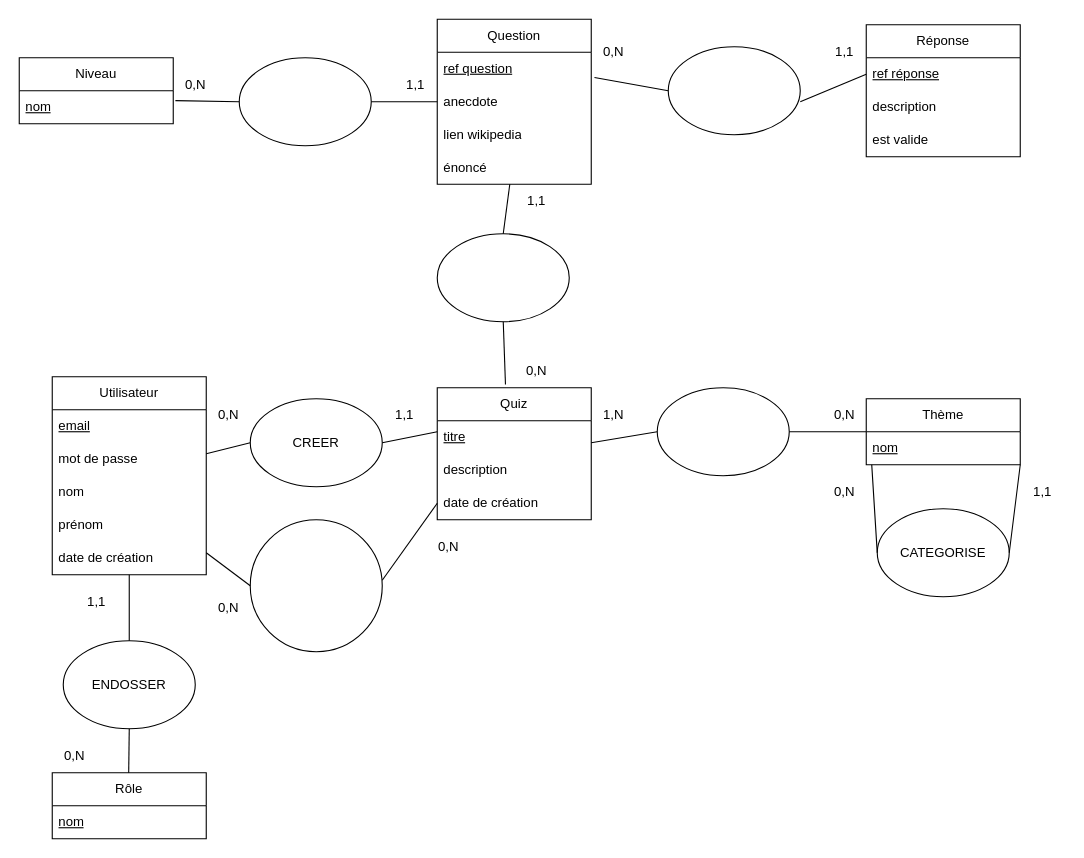
Image size: 1084x858. Some labels were removed from this diagram. Each missing label, with the centre of its shape:
"APPARTIENT" goes at (733,90).
"CARACTERISE" goes at (722,431).
"CONTENIR" goes at (502,277).
"Définir" goes at (304,101).
"JOUER ---------- score max score obtenu date de la partie" goes at (315,585).
